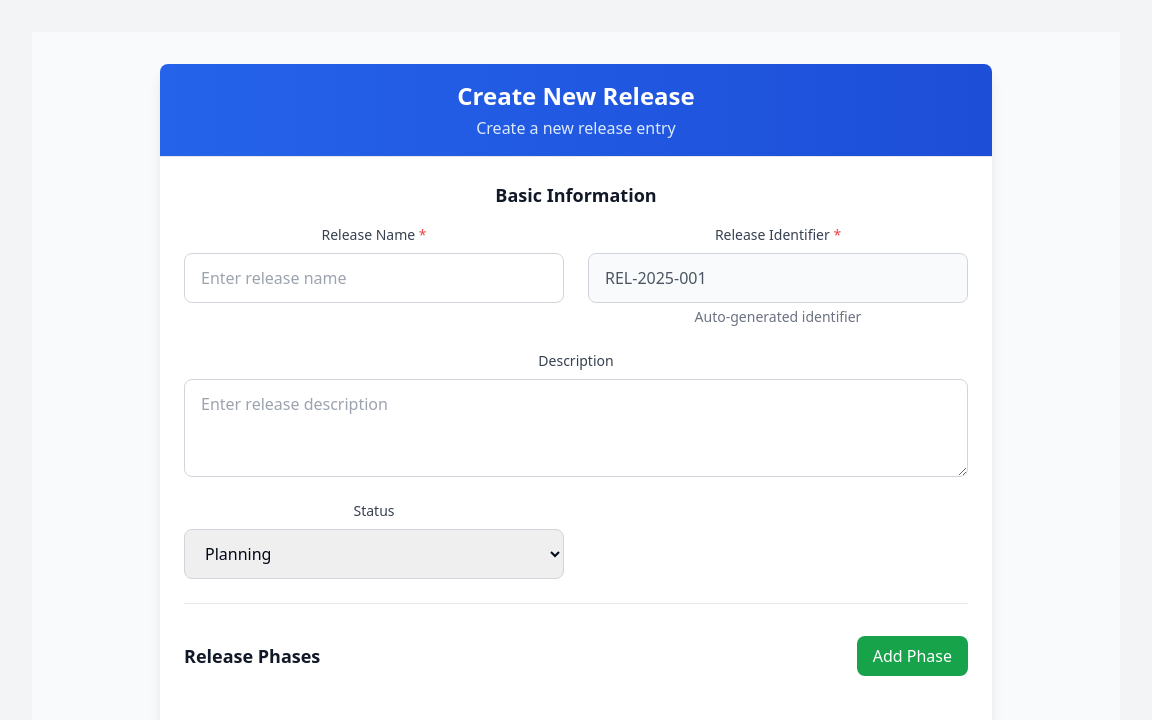
Test case: ReleaseForm › Form Submission › should disable submit button while submitting
Check: the button "Add Phase" is shown, box left=857, top=636, right=968, bottom=676
// Fill form
Type "Test Release" into the field labelled "Release Name *". click: (374, 278)
box: left=184, top=253, right=564, bottom=303
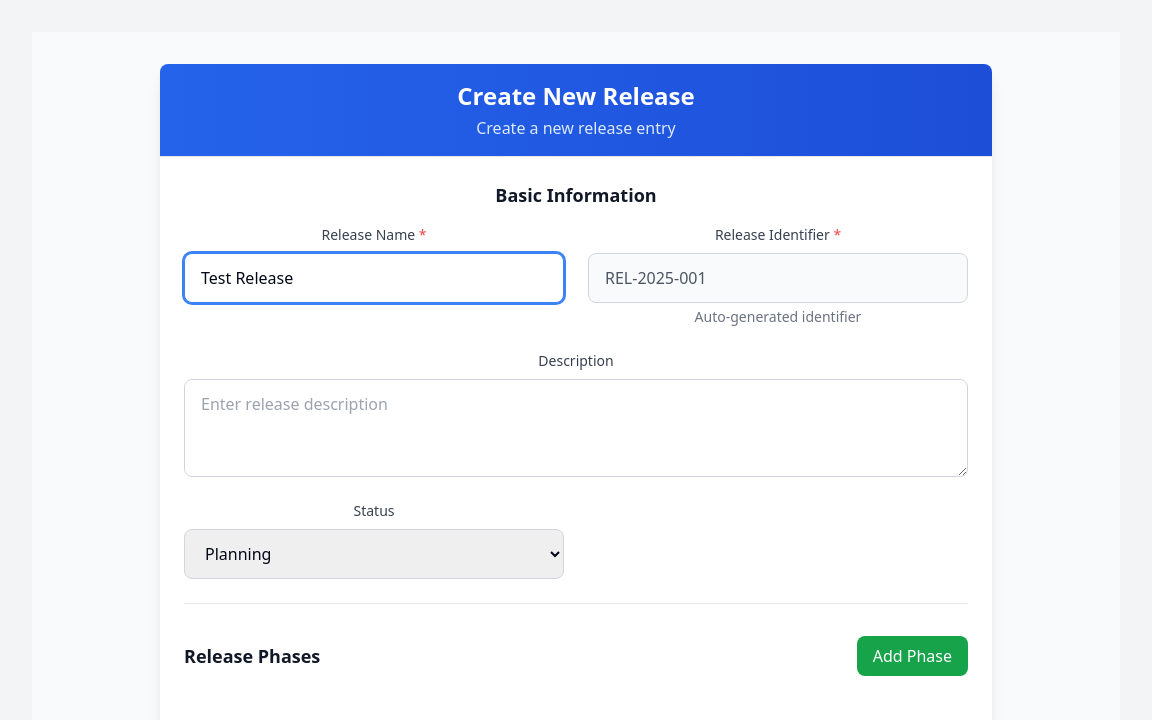
Click the button "Add Phase". click: (912, 656)
box: left=857, top=636, right=968, bottom=676
(page scrolled)
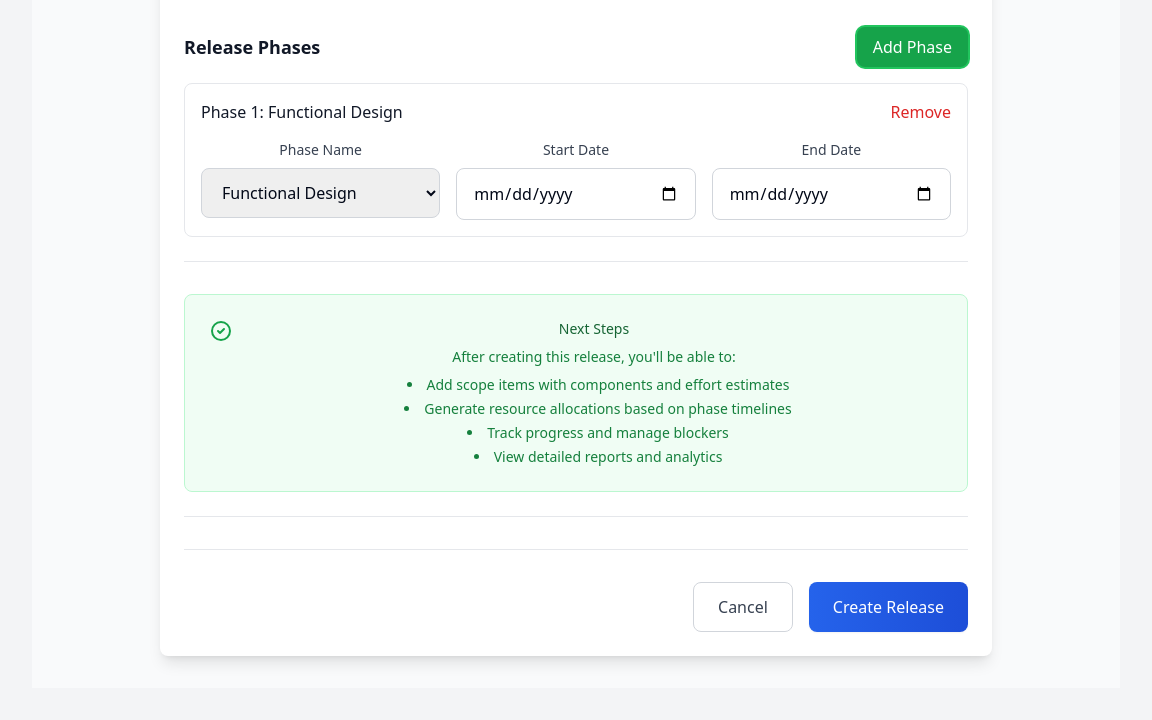
Click the button "Create Release". click: (888, 607)
box: left=809, top=582, right=968, bottom=632
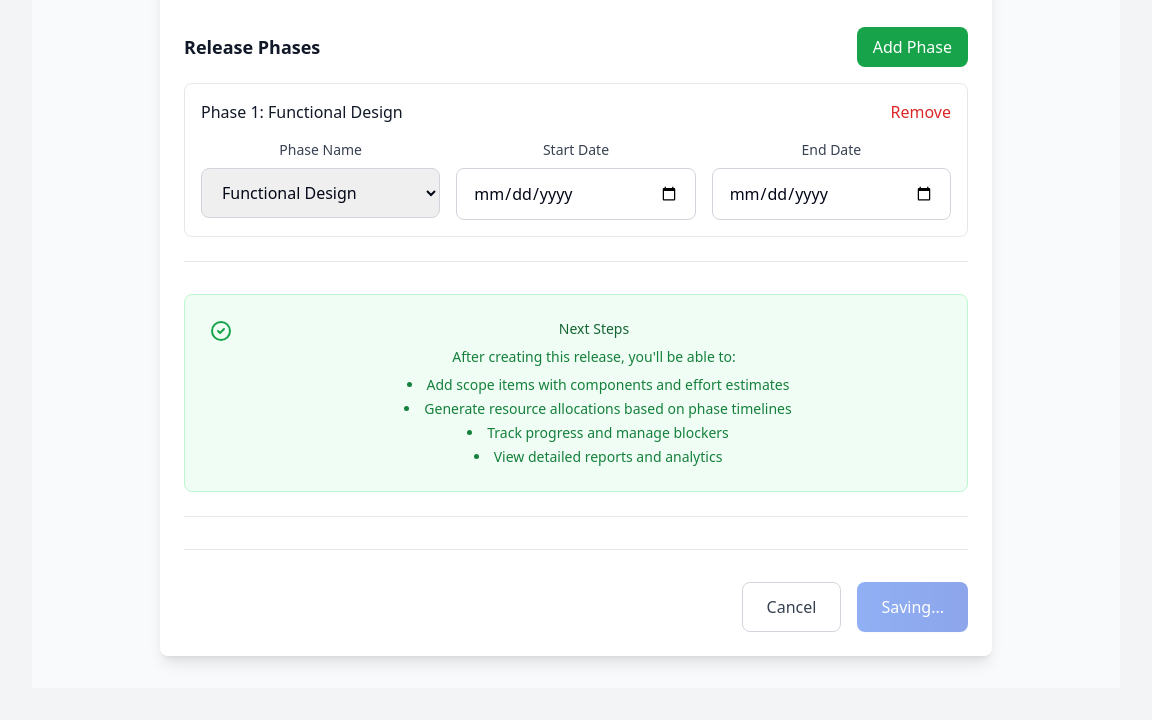
Check: the button "Saving..." is disabled, box left=857, top=582, right=968, bottom=632
